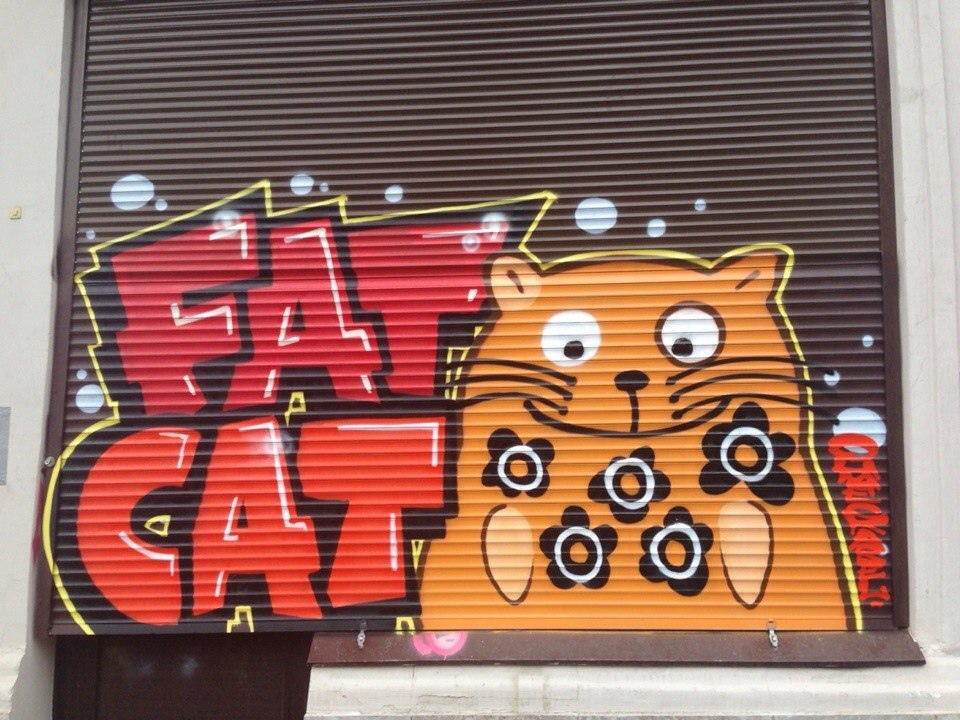graffity: (38, 161, 901, 640)
